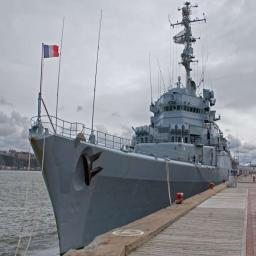Portanaves: (30, 8, 232, 255)
